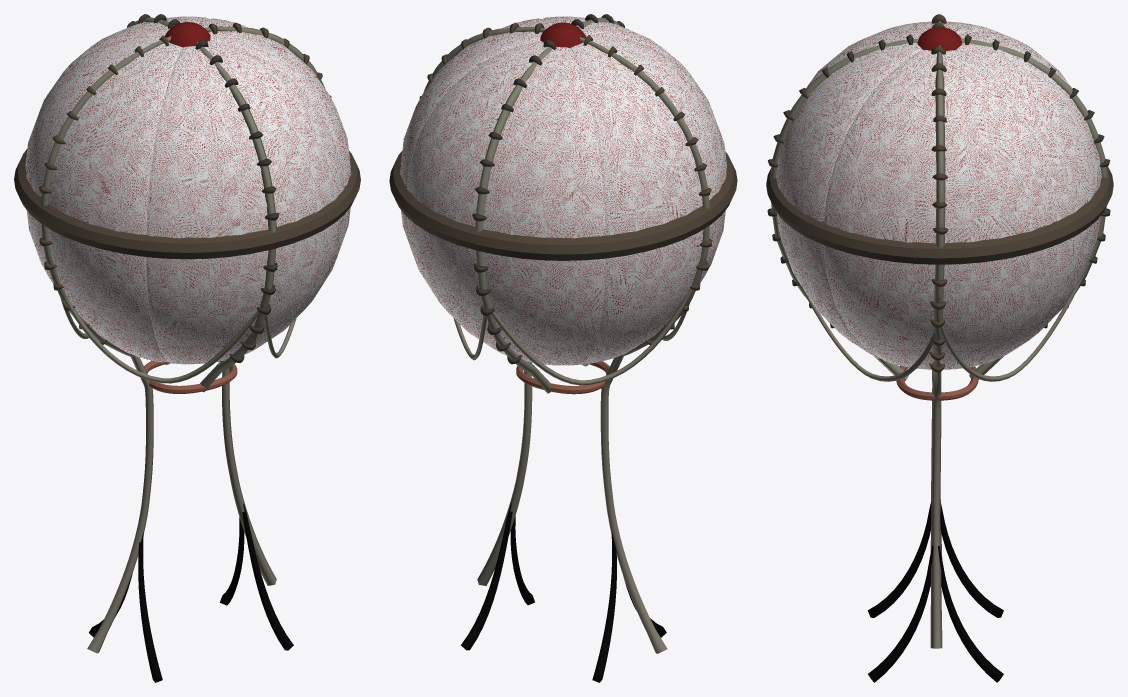
File: TEMP_SM_Ballon.fbx
3 renders of one model, left to right at view 1: azimuth 30°, elevation 25°; view 2: azimuth 150°, elevation 25°; view 3: azimuth 270°, elevation 25°, orthographic.
Parts seen in each view (by area): view 1: Sphere, Sphere.001, Circle.001, Line, Line.003, Line.001, BezierCurve, Line.002, Line.018, Circle, Sphere.002; view 2: Sphere, Sphere.001, Circle.001, Line, Line.003, Line.001, BezierCurve, Line.002, Line.018, Circle, Sphere.002; view 3: Sphere, Sphere.001, Circle.001, Line, Line.003, Line.001, BezierCurve, Line.018, Line.002, Sphere.002, Circle.
Part boxes in pixels (left/top/right/bottom): Sphere: left=25, top=16, right=351, bottom=364; Sphere.001: left=25, top=16, right=350, bottom=364; Circle.001: left=14, top=149, right=360, bottom=259; Line: left=41, top=26, right=324, bottom=653; Line.003: left=89, top=503, right=293, bottom=682; Line.001: left=132, top=17, right=276, bottom=392; BezierCurve: left=60, top=297, right=296, bottom=383; Line.002: left=127, top=14, right=279, bottom=362; Line.018: left=39, top=22, right=331, bottom=344; Circle: left=144, top=361, right=237, bottom=393; Sphere.002: left=165, top=22, right=210, bottom=47; Sphere: left=400, top=16, right=726, bottom=365; Sphere.001: left=400, top=16, right=726, bottom=365; Circle.001: left=389, top=151, right=737, bottom=260; Line: left=423, top=27, right=709, bottom=653; Line.003: left=461, top=503, right=666, bottom=682; Line.001: left=475, top=17, right=619, bottom=393; BezierCurve: left=453, top=289, right=692, bottom=385; Line.002: left=472, top=14, right=624, bottom=364; Line.018: left=419, top=22, right=712, bottom=344; Circle: left=516, top=361, right=609, bottom=394; Sphere.002: left=540, top=22, right=585, bottom=47; Sphere: left=776, top=21, right=1101, bottom=369; Sphere.001: left=776, top=22, right=1101, bottom=369; Circle.001: left=766, top=166, right=1113, bottom=264; Line: left=930, top=21, right=945, bottom=648; Line.003: left=868, top=501, right=1003, bottom=682; Line.001: left=770, top=38, right=1107, bottom=381; BezierCurve: left=799, top=262, right=1089, bottom=381; Line.018: left=929, top=14, right=948, bottom=372; Line.002: left=767, top=34, right=1110, bottom=328; Sphere.002: left=917, top=27, right=962, bottom=51; Circle: left=896, top=365, right=978, bottom=400.
Bounding box in the file's own units: 1898 × 3736 × 1898.
